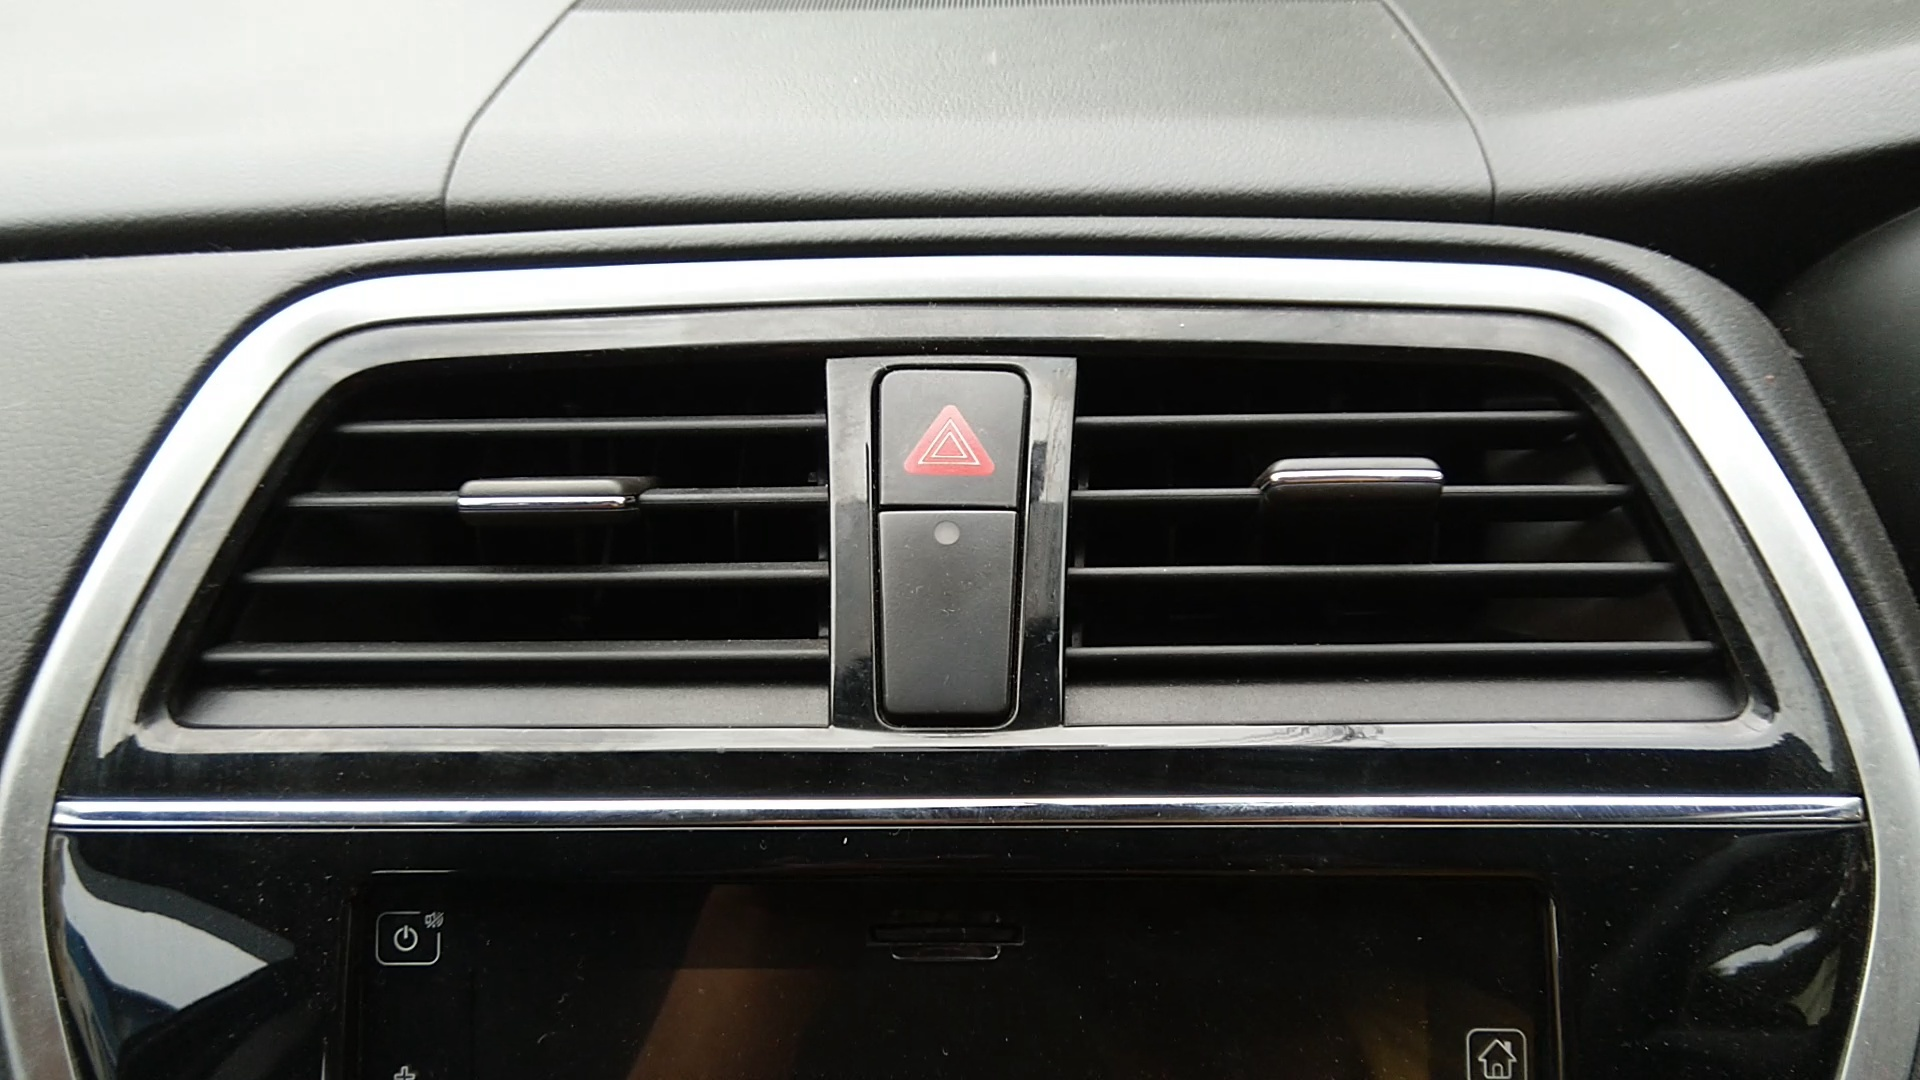parking_button: (889, 380, 1011, 497)
